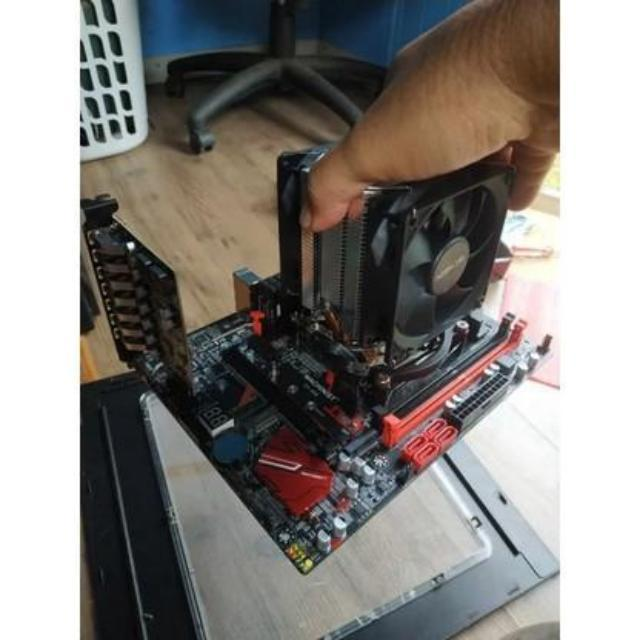CPU_Fan: (262, 124, 524, 386)
